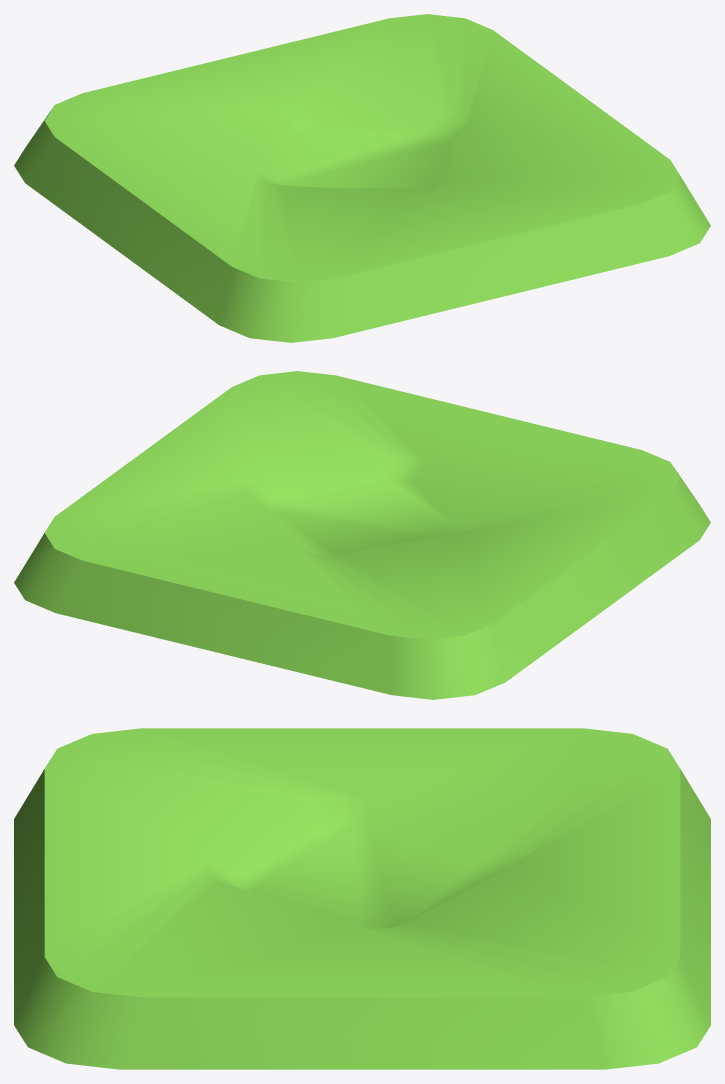
3 renders of one model, top to bottom at view 1: azimuth 30°, elevation 25°; view 2: azimuth 150°, elevation 25°; view 3: azimuth 270°, elevation 25°, orthographic. The views are drawn at different scales.
Parts seen in each view (by area): view 1: pCube1_lambert1_0; view 2: pCube1_lambert1_0; view 3: pCube1_lambert1_0.
Part boxes in pixels (box(x1,y1,x2,y2)): pCube1_lambert1_0: box(14, 14, 710, 342); pCube1_lambert1_0: box(14, 371, 710, 699); pCube1_lambert1_0: box(14, 728, 710, 1069).
Size of the model in its own units: 1 by 0.094 by 1.
